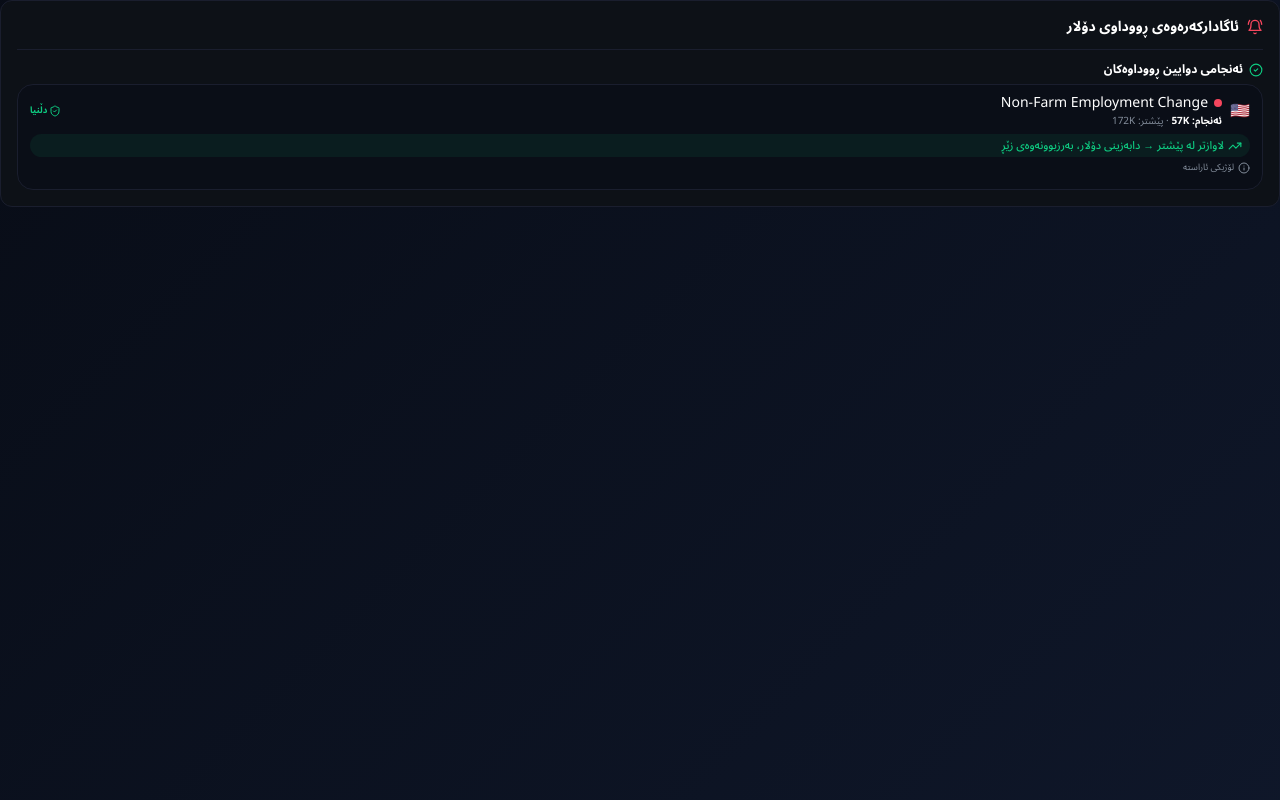
EventAlertBanner — method tooltip EN + KU › KU direction: trigger label + tooltip content in Kurdish
Hover over the button with aria-label "چۆن ئەم شیکارییە دروستکرا" at (1217, 168), box left=1183, top=161, right=1250, bottom=175
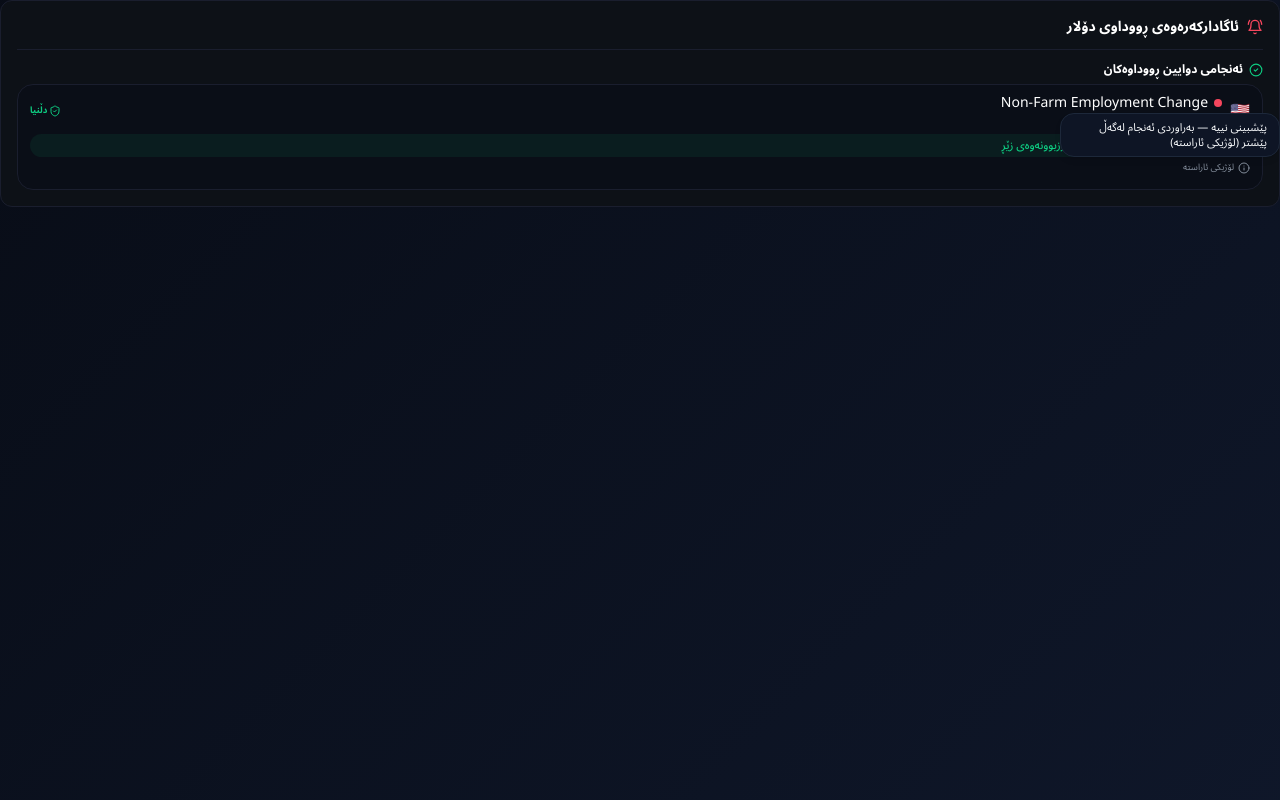
Expected: the tooltip "پێشبینی نییە — بەراوردی ئەنجام لەگەڵ پێشتر (لۆژیکی ئاراستە)" is shown, left=1060, top=113, right=1279, bottom=157
